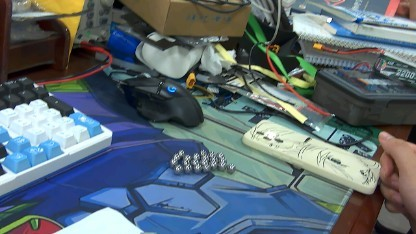ironball: (183, 163, 193, 174), (192, 163, 203, 173), (226, 160, 235, 171), (201, 164, 212, 173), (218, 160, 224, 173), (173, 163, 181, 172), (176, 148, 184, 154), (192, 152, 201, 157), (209, 160, 216, 165), (173, 153, 178, 159), (216, 151, 221, 157), (181, 158, 186, 163), (191, 158, 196, 163), (201, 159, 206, 163), (202, 153, 206, 157), (170, 159, 173, 164), (200, 149, 205, 152), (211, 156, 215, 159)
